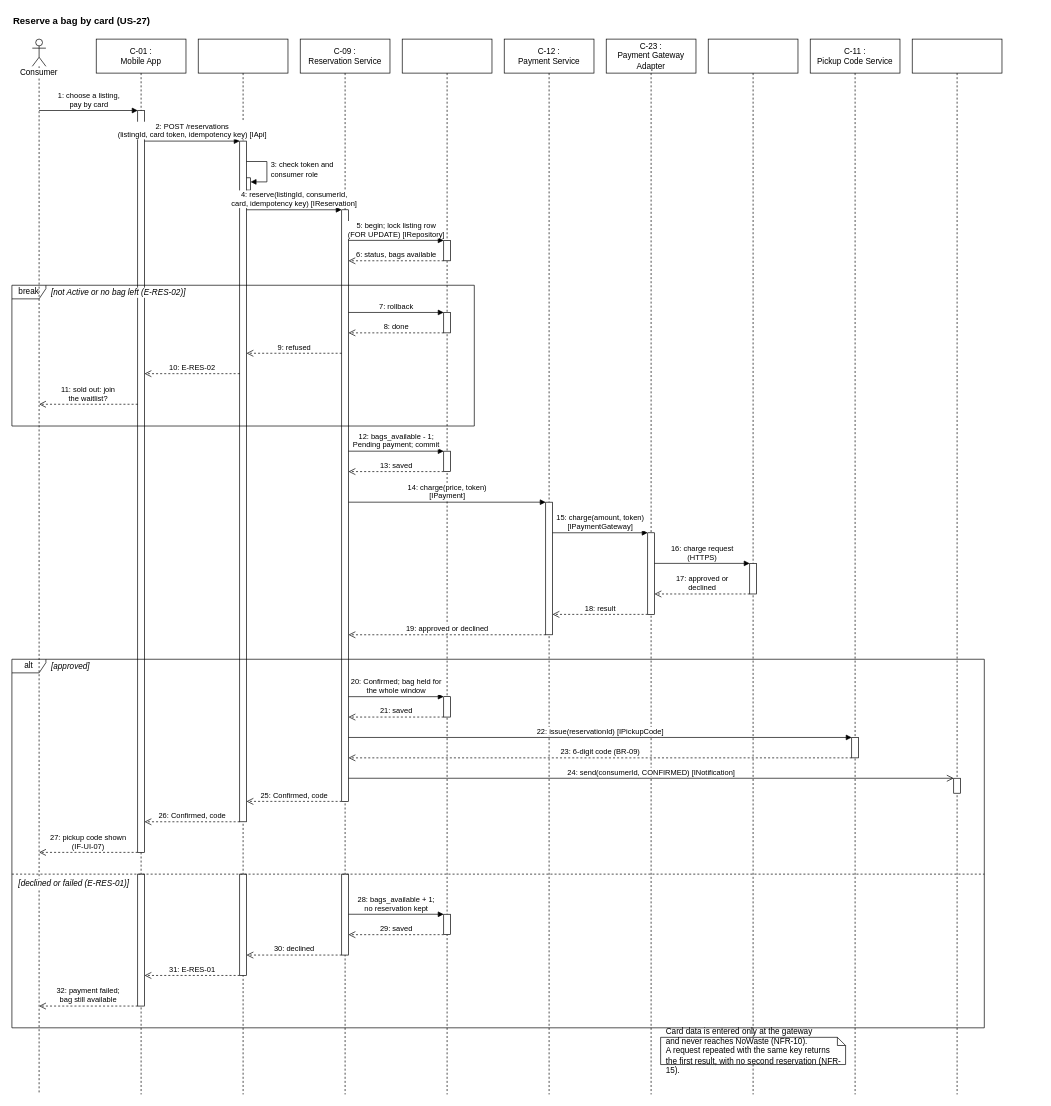
The diagram is 1051 pixels wide and 1106 high, and some of its shapes have lost their labels. The box of each missing label's shape, as (x1, y1, x2, y2) in pixels:
C-02 : API Layer: (198, 38, 288, 1094)
C-18 : Notification Service: (912, 38, 1002, 1094)
C-27 : Data Access: (402, 38, 492, 1094)
«external system» : Payment gateway: (708, 38, 798, 1094)
